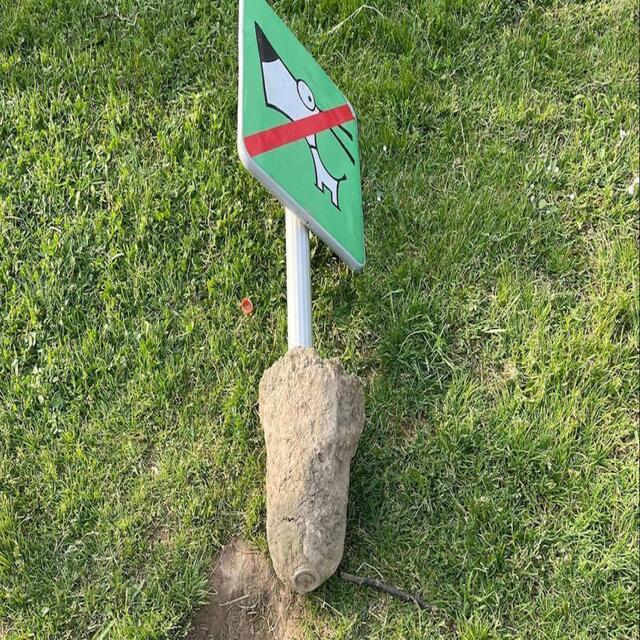Inclined Pole: (157, 0, 456, 615)
